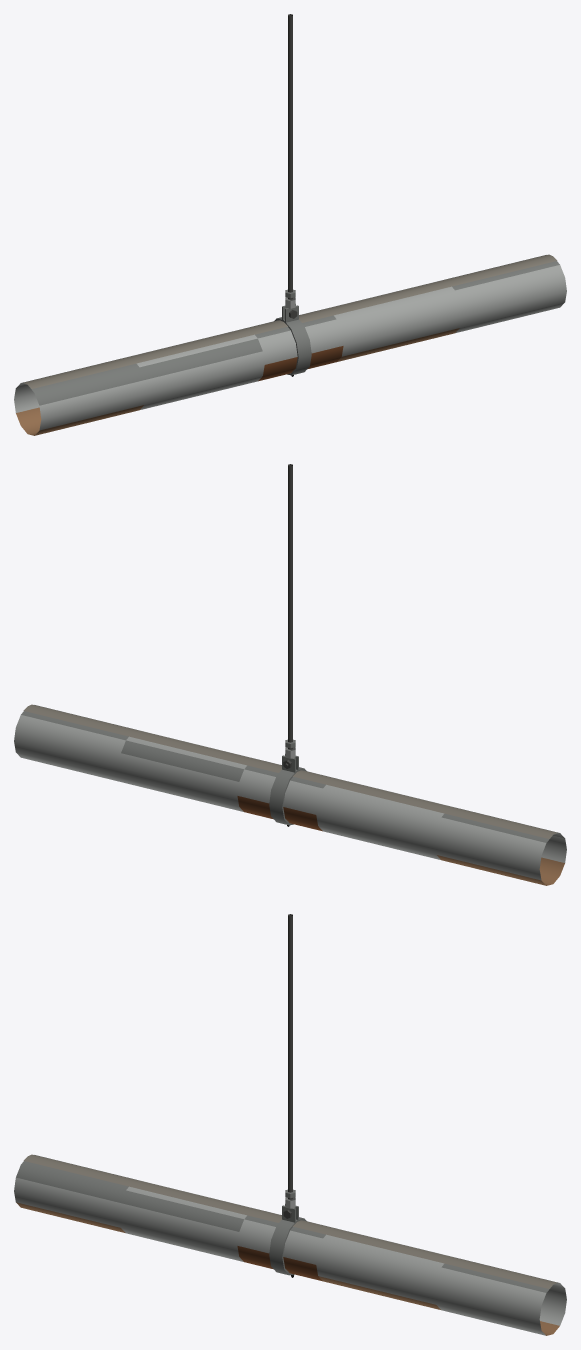
Rendered from pipe_run.glb.
3 views of the same model, one above another, from view 1: azimuth 30°, elevation 25°; view 2: azimuth 150°, elevation 25°; view 3: azimuth 330°, elevation 25° (orthographic).
Visible parts, largest first — view 1: pipe0, pipe1, pipe6, pipe2, pipe4, pipe3; view 2: pipe0, pipe6, pipe1, pipe4, pipe2, pipe3; view 3: pipe0, pipe1, pipe6, pipe4, pipe2, pipe3.
Boxes of the visible parts, left/top/right/bottom form: pipe0: left=14, top=265, right=566, bottom=430; pipe1: left=21, top=255, right=559, bottom=405; pipe6: left=24, top=254, right=557, bottom=388; pipe2: left=16, top=328, right=459, bottom=435; pipe4: left=288, top=14, right=297, bottom=318; pipe3: left=258, top=346, right=343, bottom=381; pipe0: left=14, top=715, right=566, bottom=880; pipe6: left=23, top=704, right=556, bottom=838; pipe1: left=21, top=705, right=564, bottom=842; pipe4: left=283, top=464, right=292, bottom=768; pipe2: left=437, top=855, right=564, bottom=885; pipe3: left=237, top=796, right=322, bottom=831; pipe0: left=14, top=1177, right=566, bottom=1335; pipe1: left=16, top=1155, right=559, bottom=1292; pipe6: left=23, top=1154, right=556, bottom=1288; pipe4: left=283, top=914, right=292, bottom=1218; pipe2: left=16, top=1202, right=559, bottom=1335; pipe3: left=237, top=1246, right=322, bottom=1281.
Bounding box in the file's own units: 1 × 0.6585 × 0.0972.
